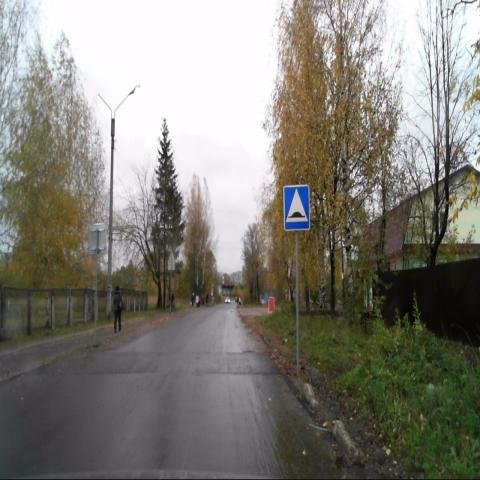5_20: (284, 184, 310, 230)
